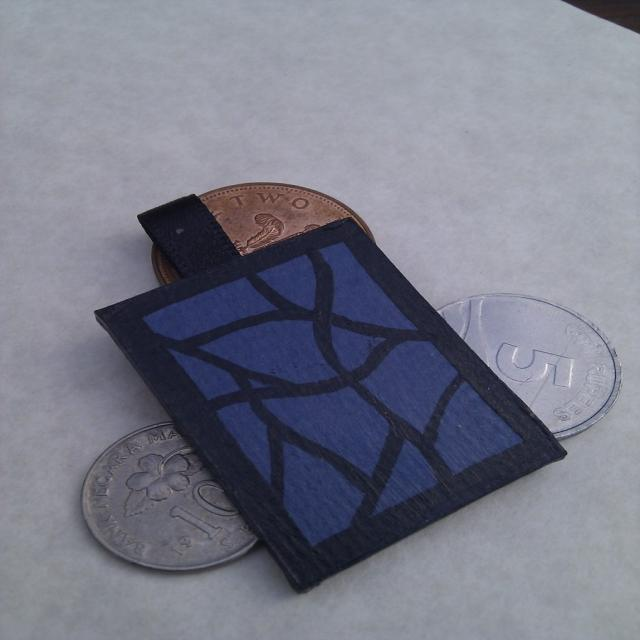Coin: (431, 292, 626, 442), (78, 423, 259, 574), (149, 182, 377, 290)
